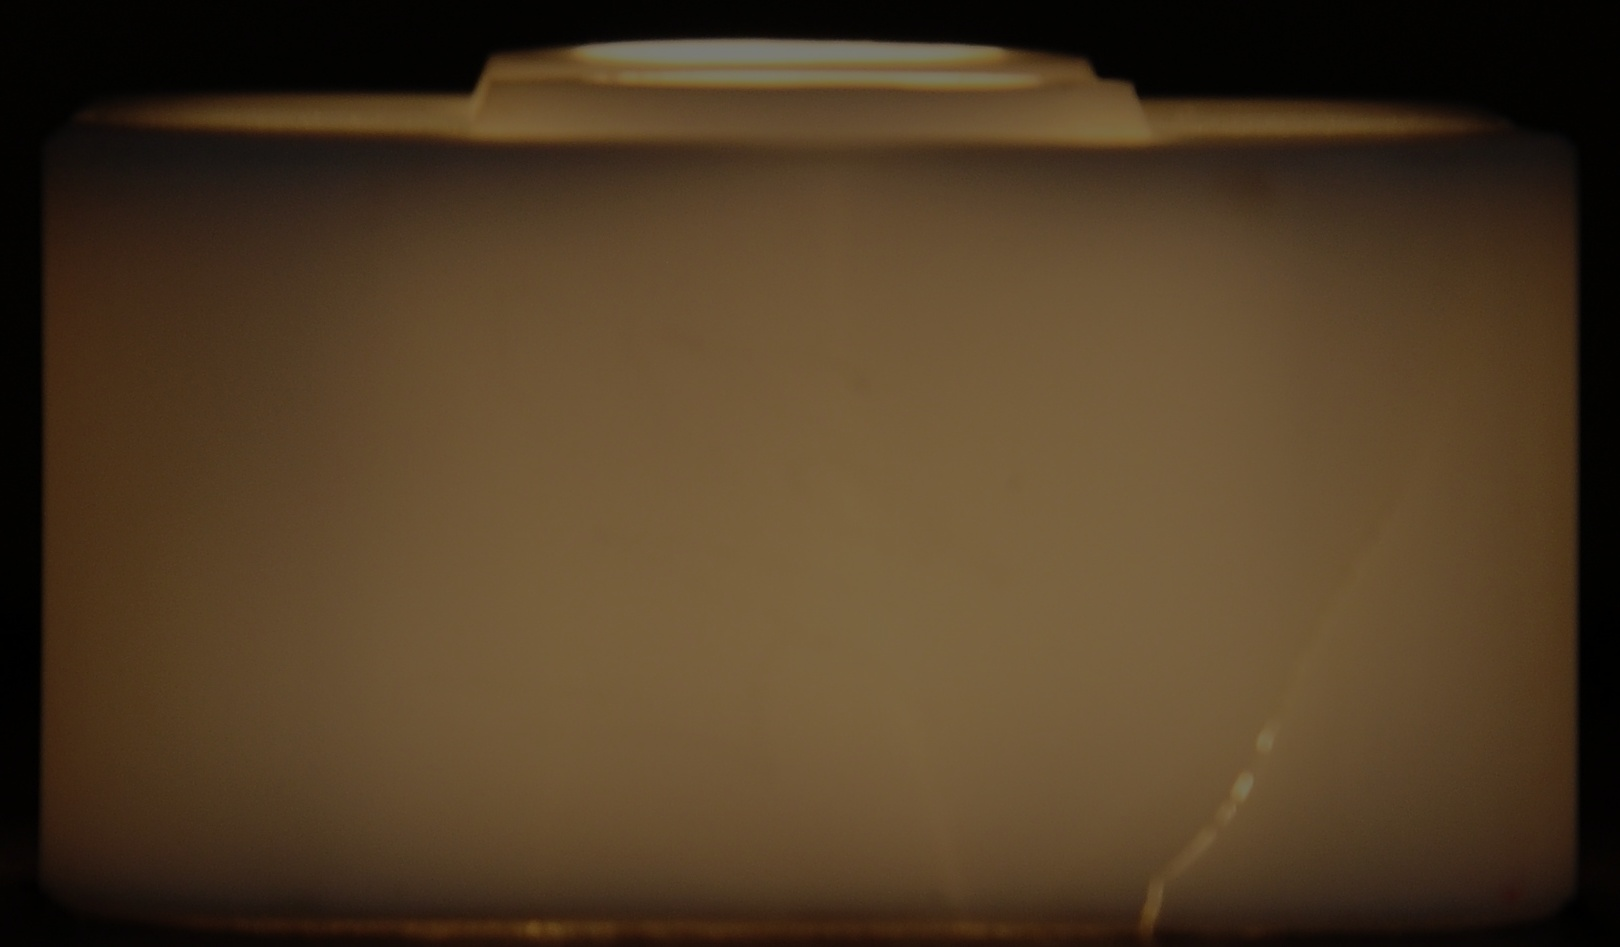flaw: (1118, 709, 1298, 940), (1294, 487, 1417, 701)
